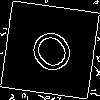O: (25, 25, 85, 86)
